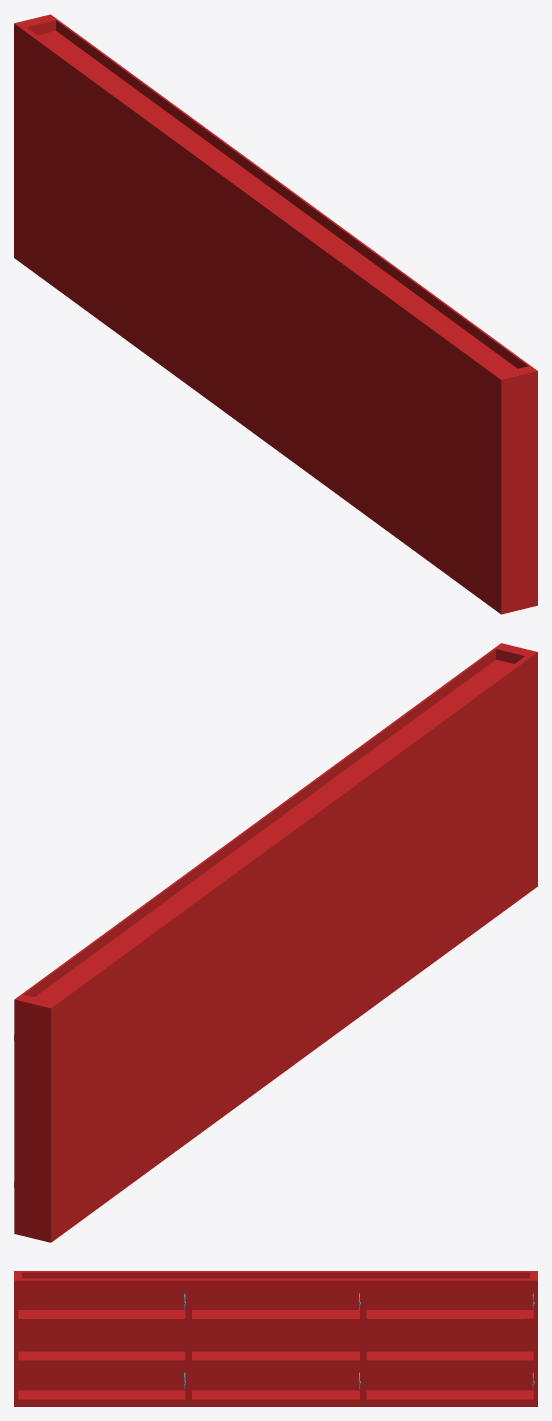
File: bathroom_cabinet.fbx
3 renders of one model, top to bottom at view 1: azimuth 30°, elevation 25°; view 2: azimuth 150°, elevation 25°; view 3: azimuth 270°, elevation 25°, orthographic. The views are drawn at different scales.
Visible parts, largest first — view 1: HSHP_MOD_Bathroom_cabinet_01; view 2: HSHP_MOD_Bathroom_cabinet_01; view 3: HSHP_MOD_Bathroom_cabinet_01.
Boxes of the visible parts, left/top/right/bottom form: HSHP_MOD_Bathroom_cabinet_01: left=14, top=14, right=537, bottom=614; HSHP_MOD_Bathroom_cabinet_01: left=14, top=643, right=537, bottom=1242; HSHP_MOD_Bathroom_cabinet_01: left=14, top=1271, right=537, bottom=1406.
Bounding box in the file's own units: 4.08 × 22.74 × 85.63.
